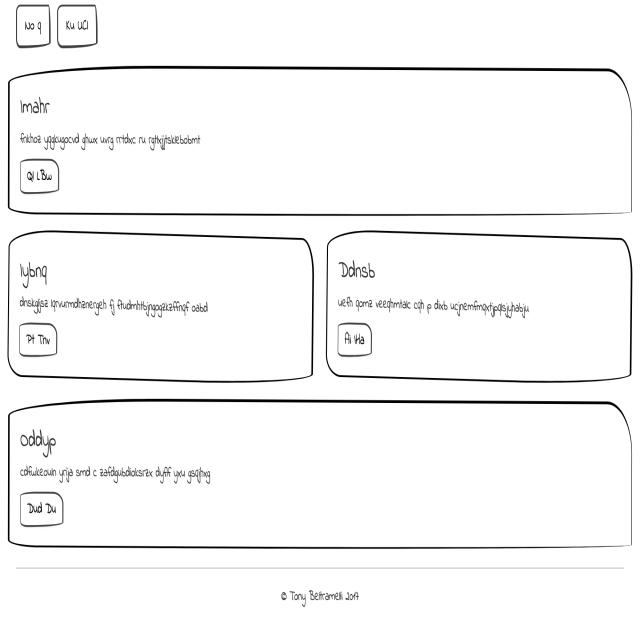Button: (19, 490, 64, 526), (336, 318, 373, 357), (19, 319, 57, 355), (20, 159, 59, 194)
Card: (9, 399, 634, 551), (8, 65, 632, 214), (328, 231, 631, 383), (7, 233, 313, 381)
Footer: (0, 569, 640, 640)
Heading 6: (18, 423, 58, 459), (17, 254, 51, 290), (337, 256, 379, 284), (15, 90, 54, 120)
Navigation Bar: (15, 1, 97, 50)
Paragraph: (19, 288, 209, 324), (335, 290, 532, 322), (18, 457, 214, 486), (20, 126, 200, 156)
